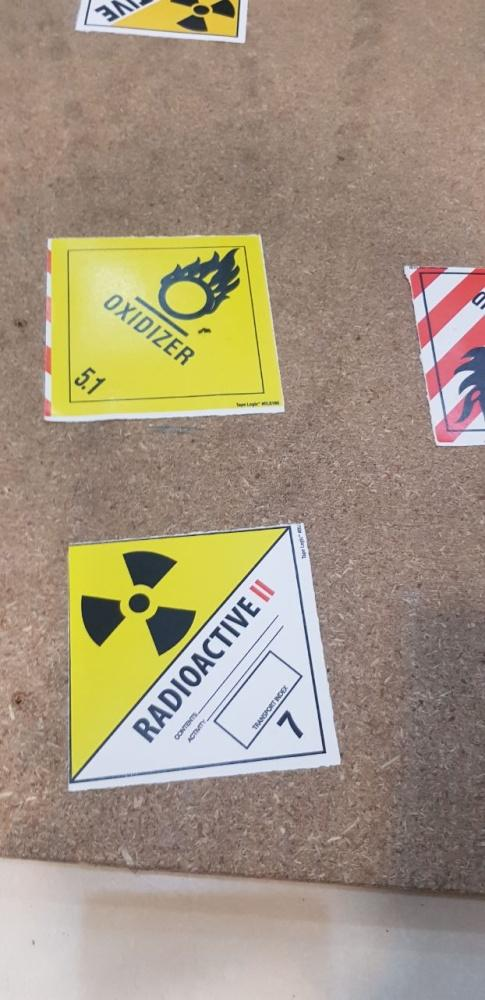flammable-solid: (404, 254, 485, 452)
oxidizer: (45, 235, 288, 425)
radioactive: (62, 524, 345, 793), (73, 1, 254, 54)
